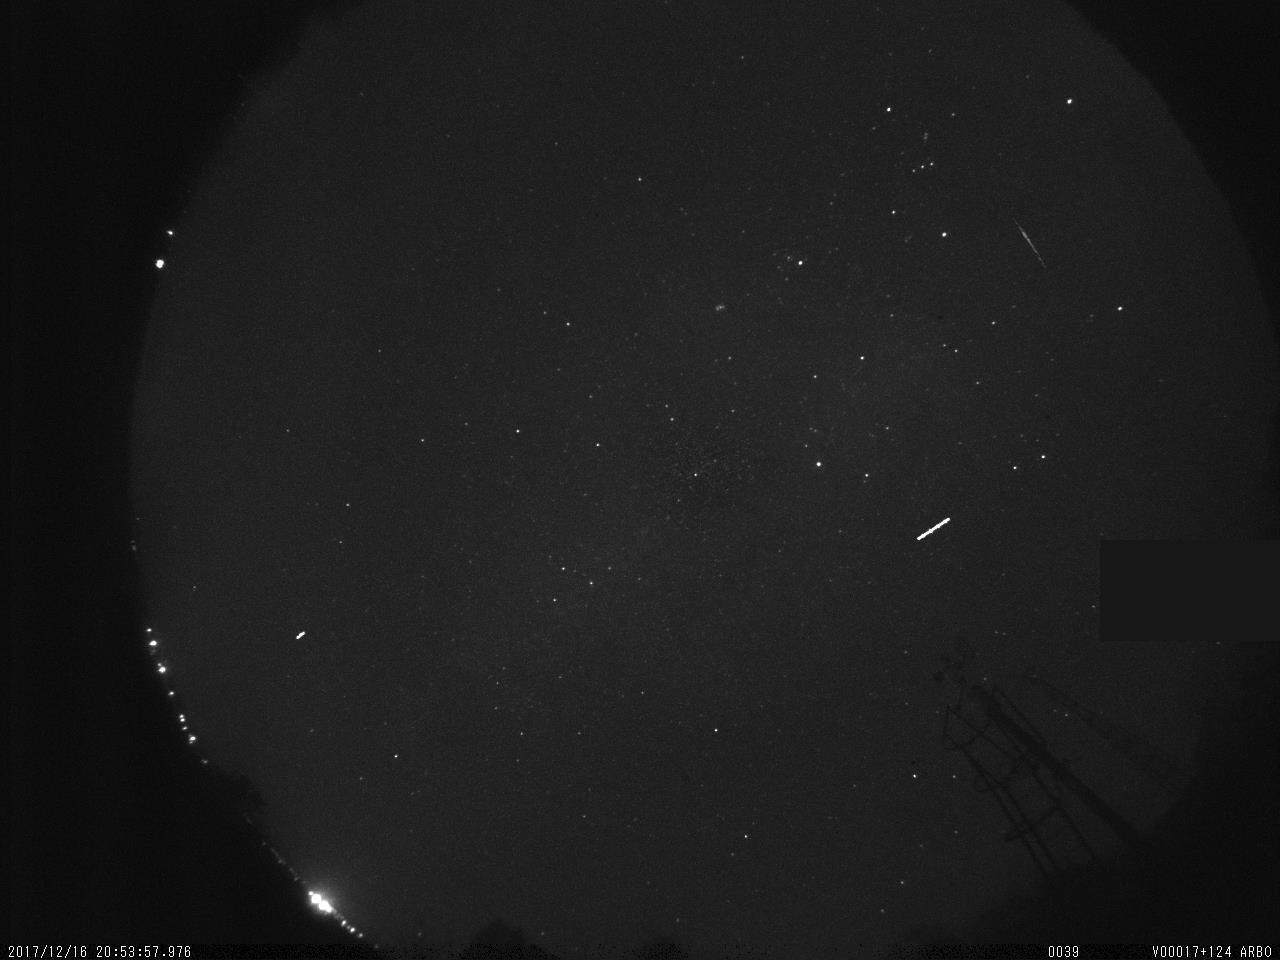meteor: (1007, 211, 1057, 280)
satelite: (907, 509, 956, 551), (290, 619, 308, 649)
